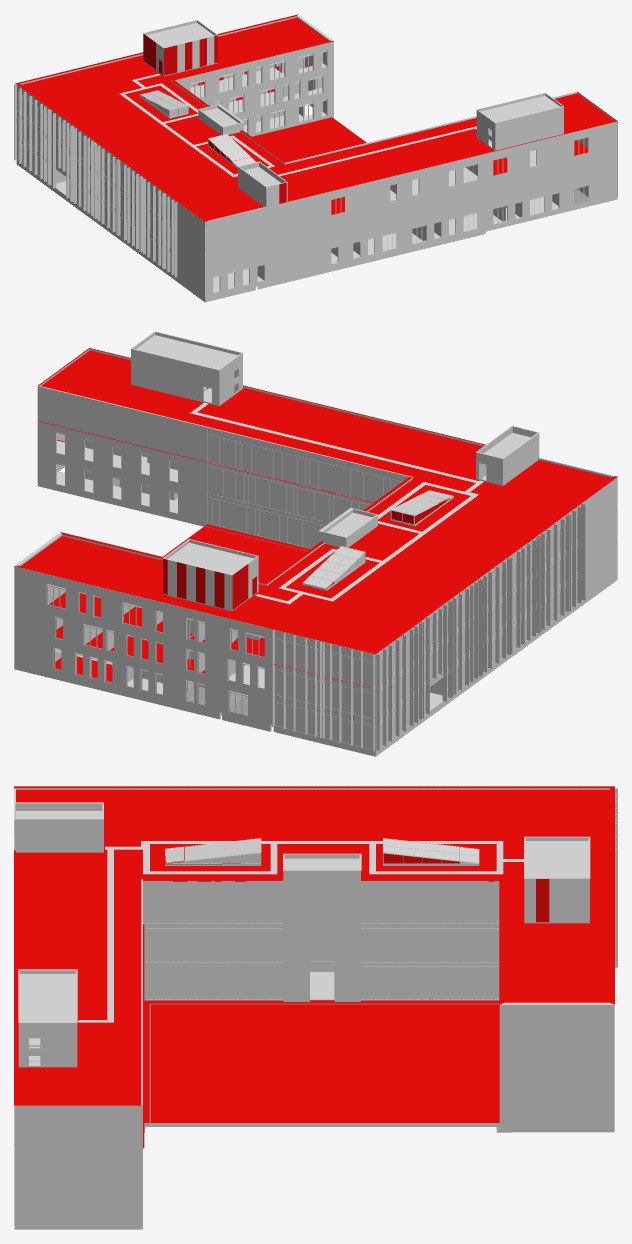
The model's file is NLRS_Onderwijsmodel_Bouwkundig_LOD3.2_IFC3x2.glb.
3 renders of one model, top to bottom at view 1: azimuth 30°, elevation 25°; view 2: azimuth 150°, elevation 25°; view 3: azimuth 270°, elevation 25°, orthographic. The views are drawn at different scales.
Visible parts, largest first — view 1: IfcWall/con:WallSurface, IfcSlab/con:RoofSurface; view 2: IfcWall/con:WallSurface, IfcSlab/con:RoofSurface; view 3: IfcSlab/con:RoofSurface, IfcWall/con:WallSurface, IfcSlab/con:GroundSurface.
Part boxes in pixels (bbox=[...]): IfcWall/con:WallSurface: bbox=[14, 15, 617, 302]; IfcSlab/con:RoofSurface: bbox=[16, 14, 617, 221]; IfcWall/con:WallSurface: bbox=[14, 331, 617, 756]; IfcSlab/con:RoofSurface: bbox=[14, 348, 617, 687]; IfcSlab/con:RoofSurface: bbox=[14, 786, 614, 1147]; IfcWall/con:WallSurface: bbox=[14, 785, 617, 1229]; IfcSlab/con:GroundSurface: bbox=[144, 1006, 499, 1131].
Size of the model in its own units: 67.96 by 20.23 by 53.97.
